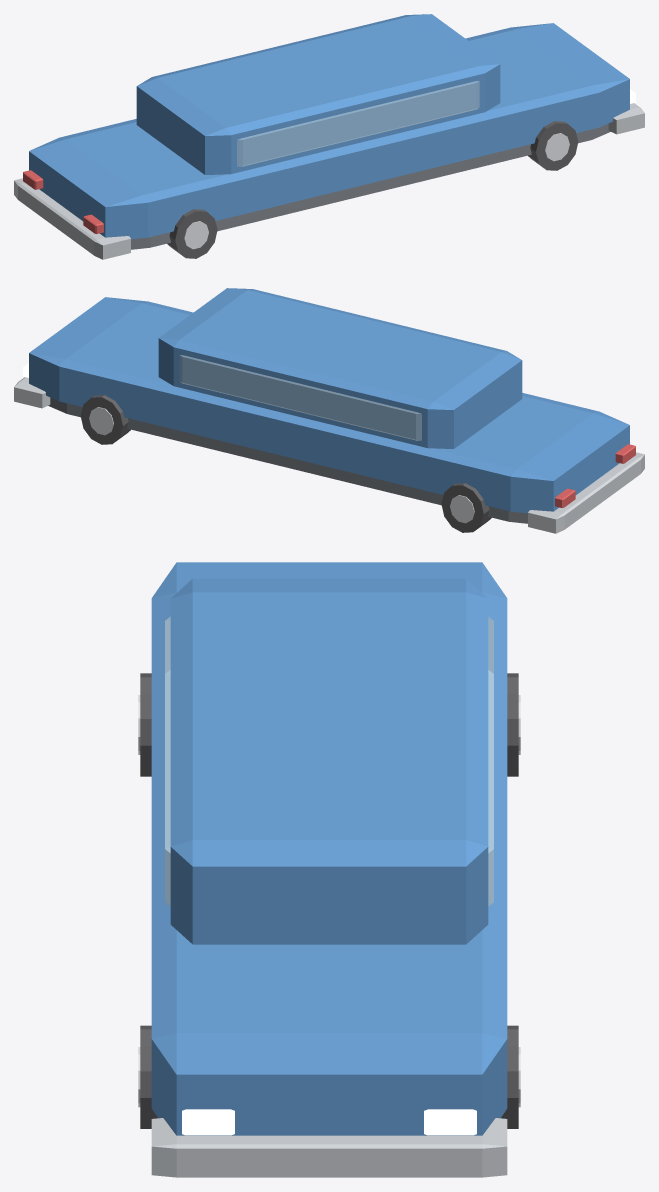
File: b03_stretch_limousine.glb
3 views of the same model, one above another, from view 1: azimuth 30°, elevation 25°; view 2: azimuth 150°, elevation 25°; view 3: azimuth 270°, elevation 25° (orthographic). The views are drawn at different scales.
Visible parts, largest first — view 1: b03_stretch_limousine; view 2: b03_stretch_limousine; view 3: b03_stretch_limousine.
Boxes of the visible parts, <box> form: b03_stretch_limousine: <box>14,14,644,259</box>; b03_stretch_limousine: <box>14,288,644,533</box>; b03_stretch_limousine: <box>138,562,520,1177</box>.
Bounding box in the file's own units: 7.93 × 1.54 × 2.4.
